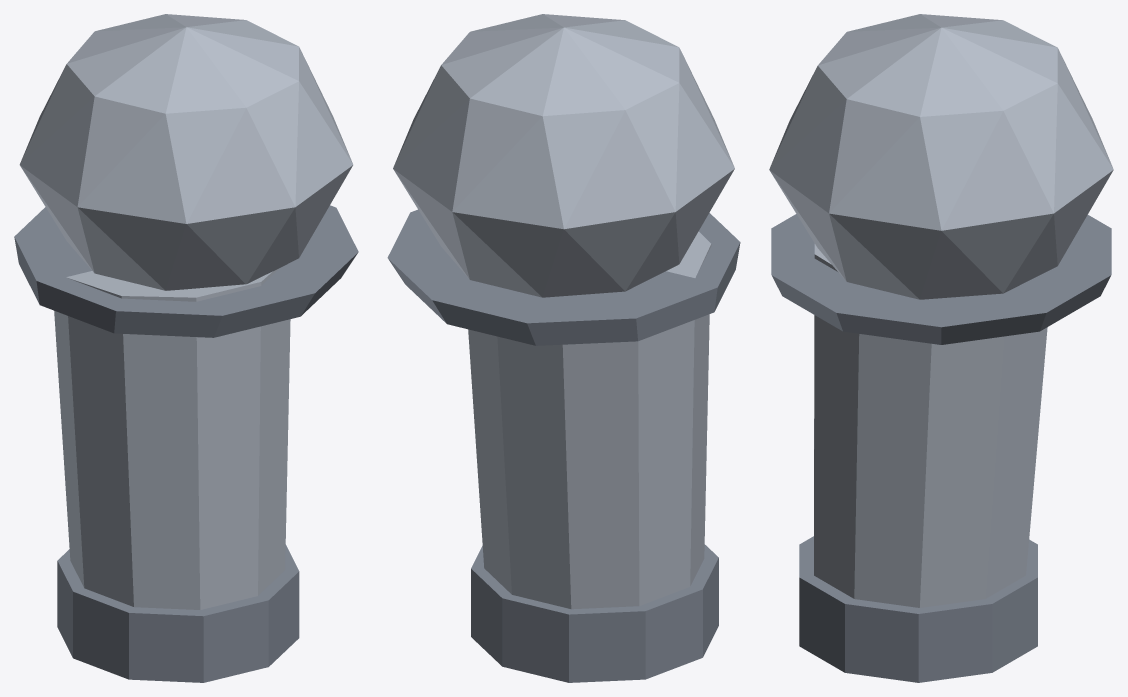
File: gear_steel_body_arm_l.glb
3 views of the same model, side by side, from view 1: azimuth 30°, elevation 25°; view 2: azimuth 150°, elevation 25°; view 3: azimuth 270°, elevation 25° (orthographic). The views are drawn at different scales.
Visible parts, largest first — view 1: gear_steel_body_arm_l; view 2: gear_steel_body_arm_l; view 3: gear_steel_body_arm_l.
Part boxes in pixels (x1,y1,x2,y2): gear_steel_body_arm_l: [14, 14, 358, 682]; gear_steel_body_arm_l: [387, 14, 740, 682]; gear_steel_body_arm_l: [769, 14, 1113, 682].
Bounding box in the file's own units: 0.188 × 0.355 × 0.1812.
